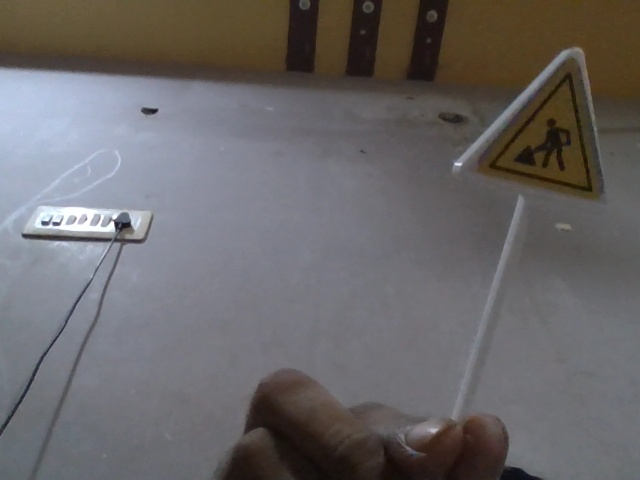workinprogress: (400, 31, 614, 212)
